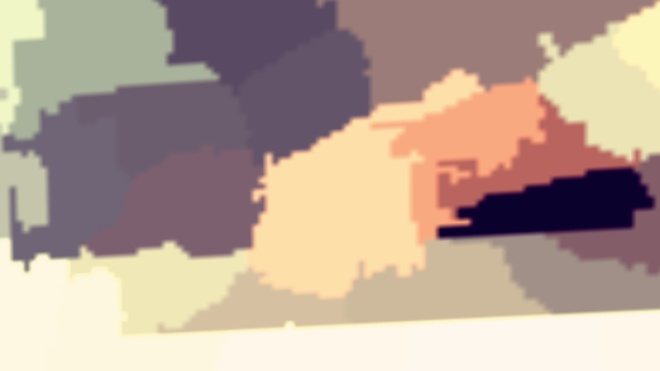washing hand: (127, 16, 451, 329)
